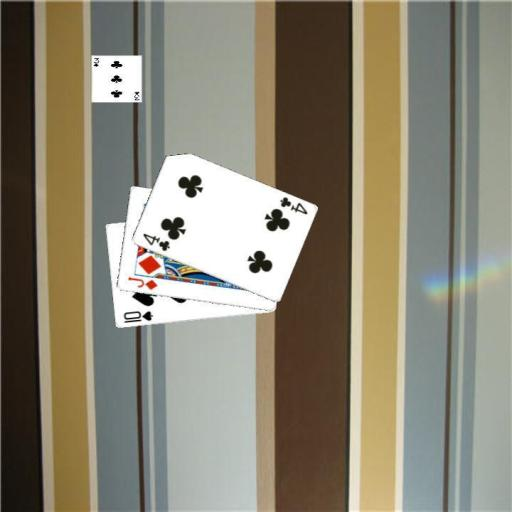card-corner: (139, 230, 171, 252), (276, 194, 308, 216), (124, 274, 158, 292), (120, 308, 154, 325)
